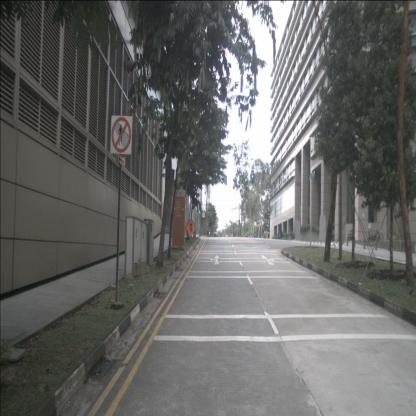vehicle-bicycle: (391, 232, 399, 241)
